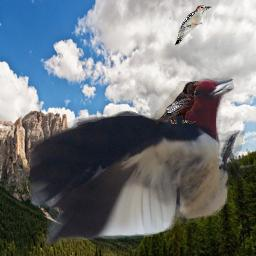Crow: (155, 81, 200, 124)
Woodpecker: (30, 70, 255, 244), (175, 5, 212, 45)
